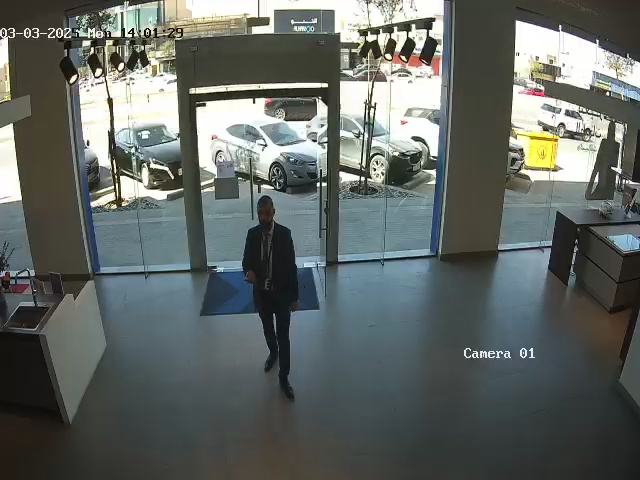employee: (241, 194, 300, 399)
